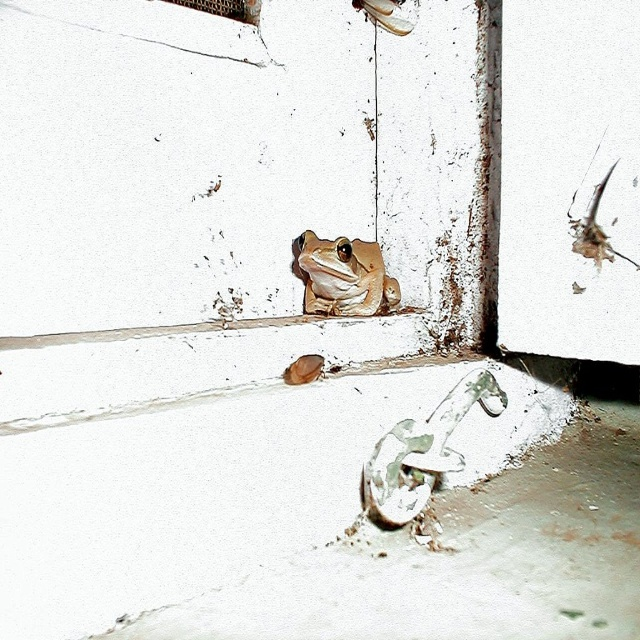Frog: (295, 228, 401, 315)
